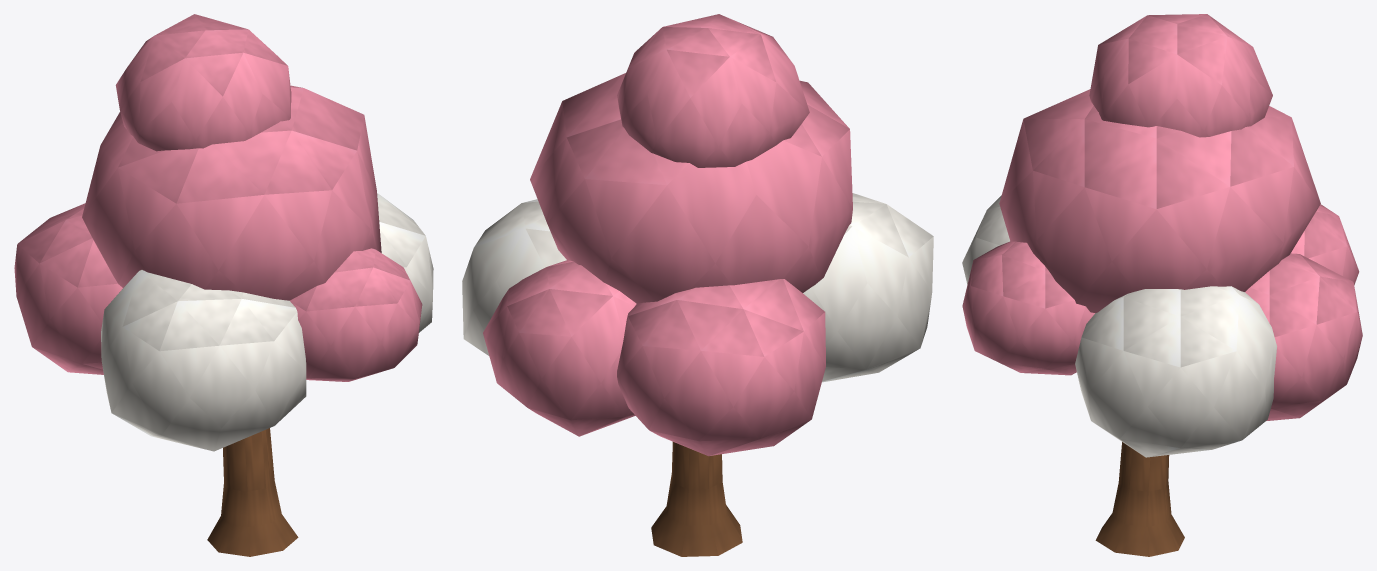
File: tree_round_08.glb
The picture shows the model from 3 angles, left to right: view 1: azimuth 30°, elevation 25°; view 2: azimuth 150°, elevation 25°; view 3: azimuth 270°, elevation 25°; orthographic projection. The views are drawn at different scales.
Parts seen in each view (by area): view 1: tree_round_08; view 2: tree_round_08; view 3: tree_round_08.
Part boxes in pixels (box(x1,y1,x2,y2)): tree_round_08: box(14, 14, 433, 556); tree_round_08: box(462, 14, 933, 556); tree_round_08: box(962, 14, 1362, 556).
Bounding box in the file's own units: 4.03 × 5.35 × 3.86.
Materials: 1 (1 with a texture image).
